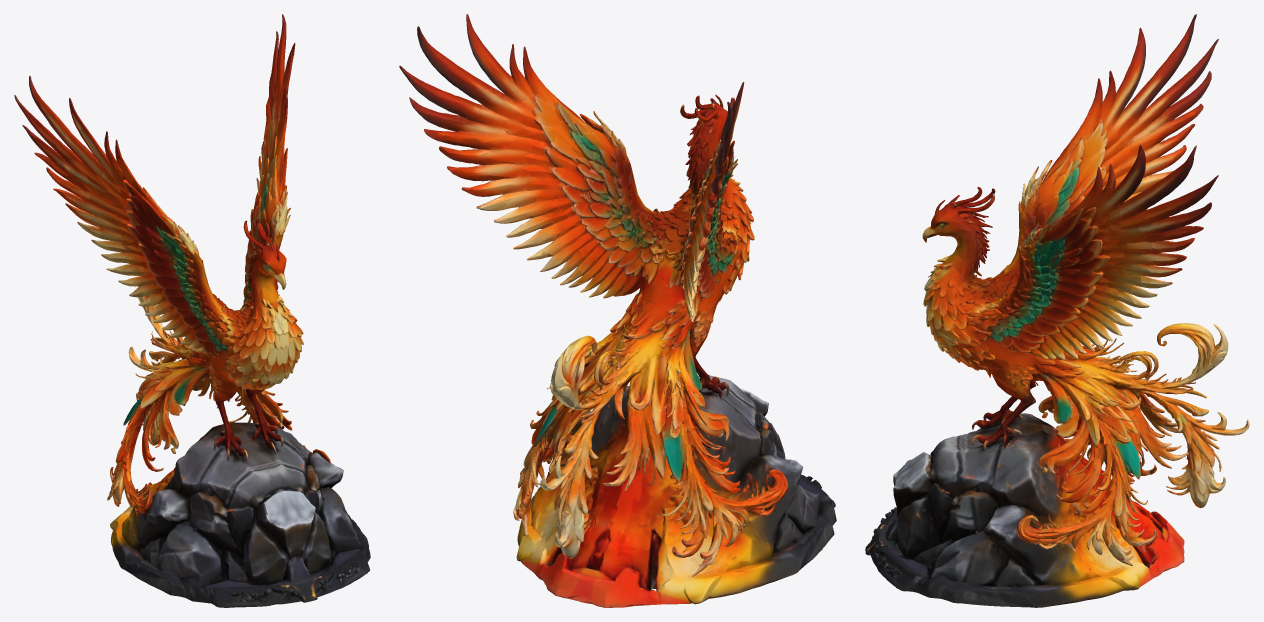
File: Phoenix.glb
3 renders of one model, left to right at view 1: azimuth 30°, elevation 25°; view 2: azimuth 150°, elevation 25°; view 3: azimuth 270°, elevation 25°, orthographic. The views are drawn at different scales.
Parts seen in each view (by area): view 1: output_unwrapped; view 2: output_unwrapped; view 3: output_unwrapped.
Boxes of the visible parts, x1,y1,x2,y2 form: output_unwrapped: [14, 14, 370, 607]; output_unwrapped: [399, 14, 836, 607]; output_unwrapped: [865, 14, 1249, 607].
Bounding box in the file's own units: 1.18 × 1.9 × 1.4.
Materials: 1 (1 with a texture image).
